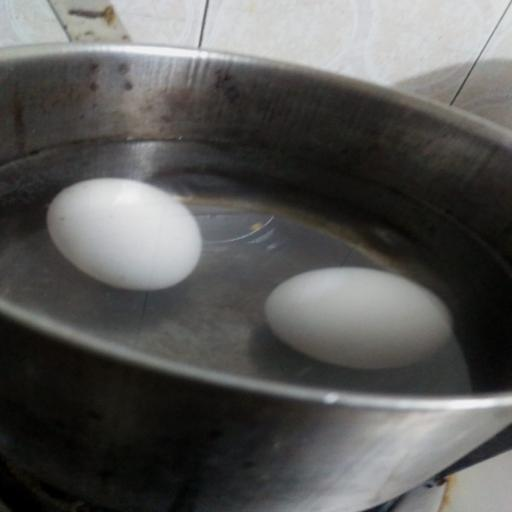telur: (264, 264, 455, 372), (45, 177, 205, 292)
